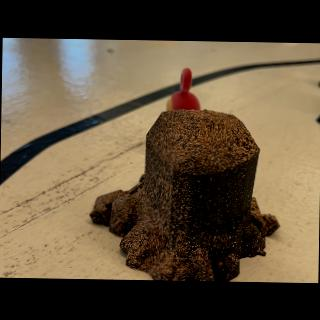teletubby: (166, 68, 200, 110)
